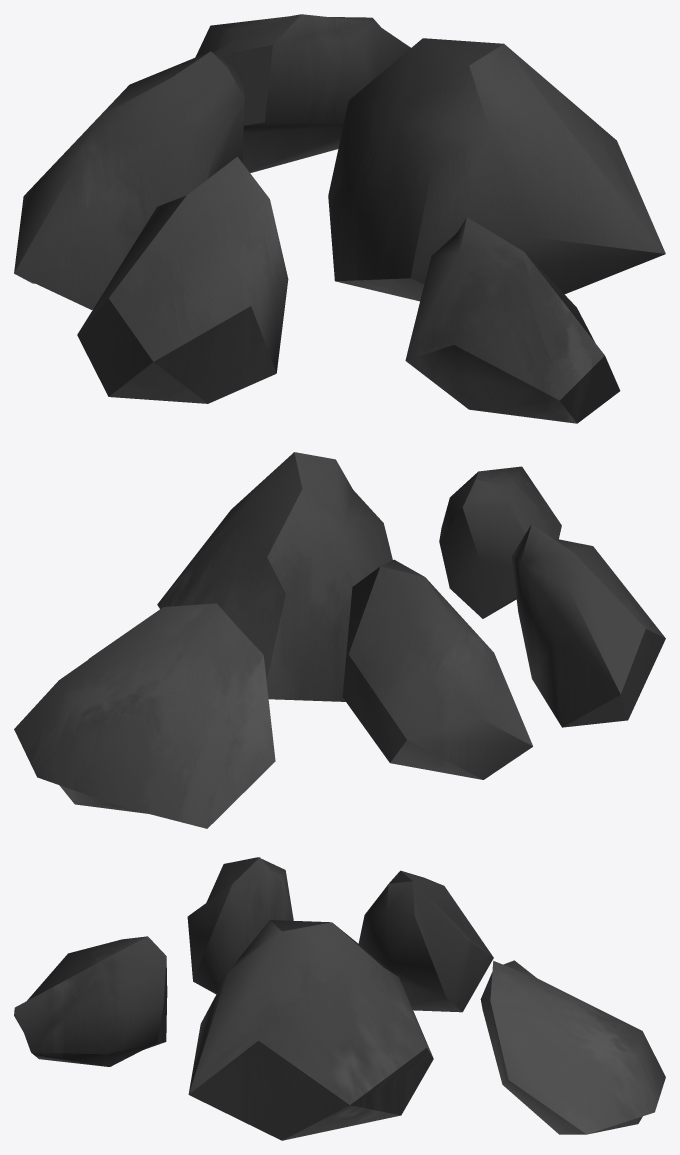
Rendered from foliage_rocks_1.fbx.
The picture shows the model from 3 angles, top to bottom: view 1: azimuth 30°, elevation 25°; view 2: azimuth 150°, elevation 25°; view 3: azimuth 270°, elevation 25°; orthographic projection. The views are drawn at different scales.
Visible parts, largest first — view 1: foliage_rocks_1; view 2: foliage_rocks_1; view 3: foliage_rocks_1.
Part boxes in pixels (bbox=[...]): foliage_rocks_1: bbox=[14, 14, 665, 423]; foliage_rocks_1: bbox=[14, 452, 665, 828]; foliage_rocks_1: bbox=[14, 857, 665, 1140].
Size of the model in its own units: 464 by 216 by 671.
